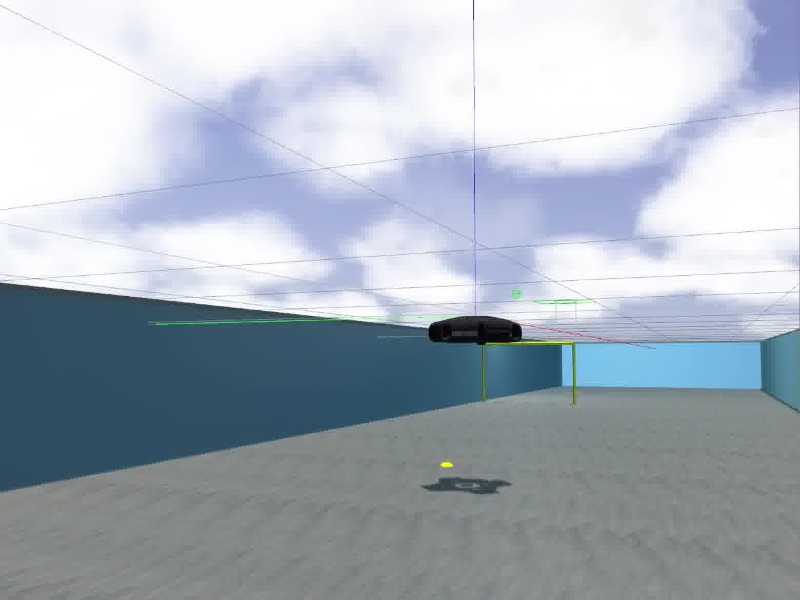gate: (480, 341, 577, 405)
